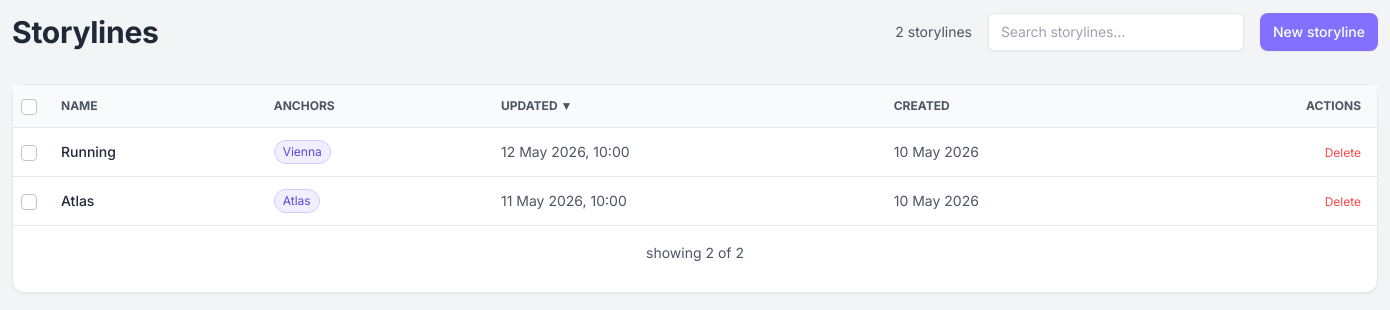
StorylineListView › toggles sort direction when the same header is clicked twice
Click the column heading with test id "sort-name" at (79, 106), box [45,85,258,128]
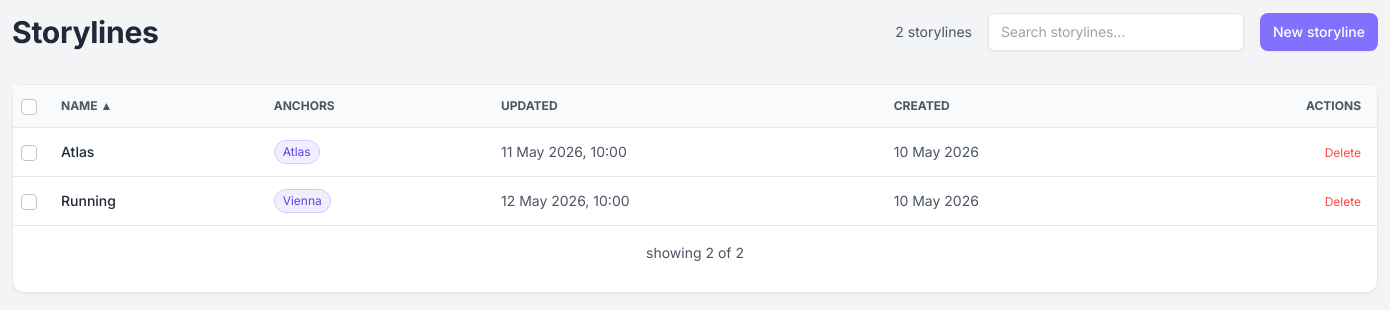
Result: the column heading with test id "sort-name" shows "▲" at [61,98,112,113]
Click the column heading with test id "sort-name" at (87, 106), box [45,85,258,128]
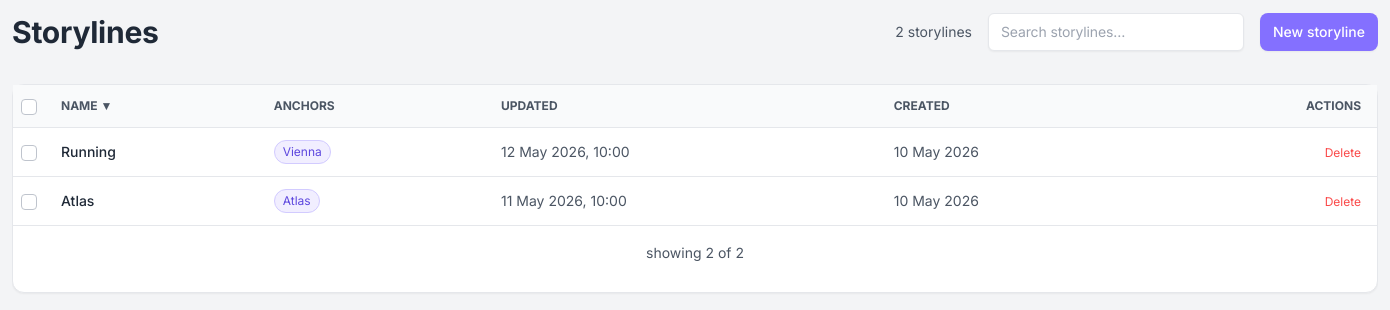
Result: the column heading with test id "sort-name" shows "▼" at [61,98,112,113]
